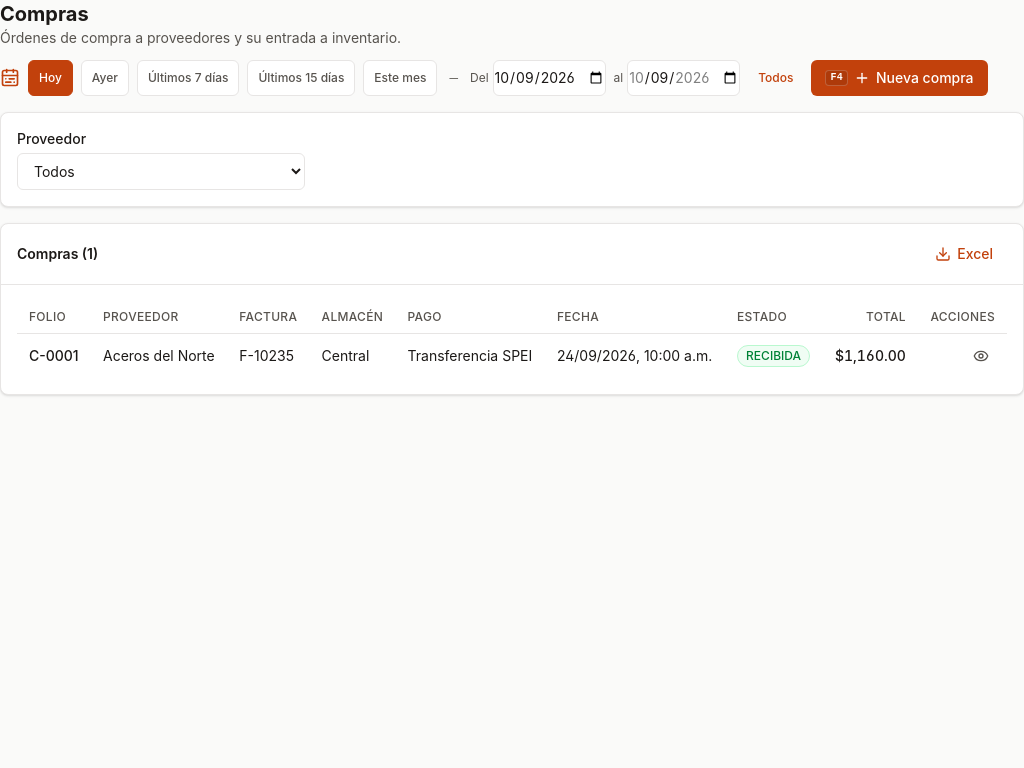
Test: ComprasPage (profundización) › valida proveedor, almacén y partida antes de registrar
Click the button "F4 Nueva compra".
click(900, 78)  # box [812,60,988,96]
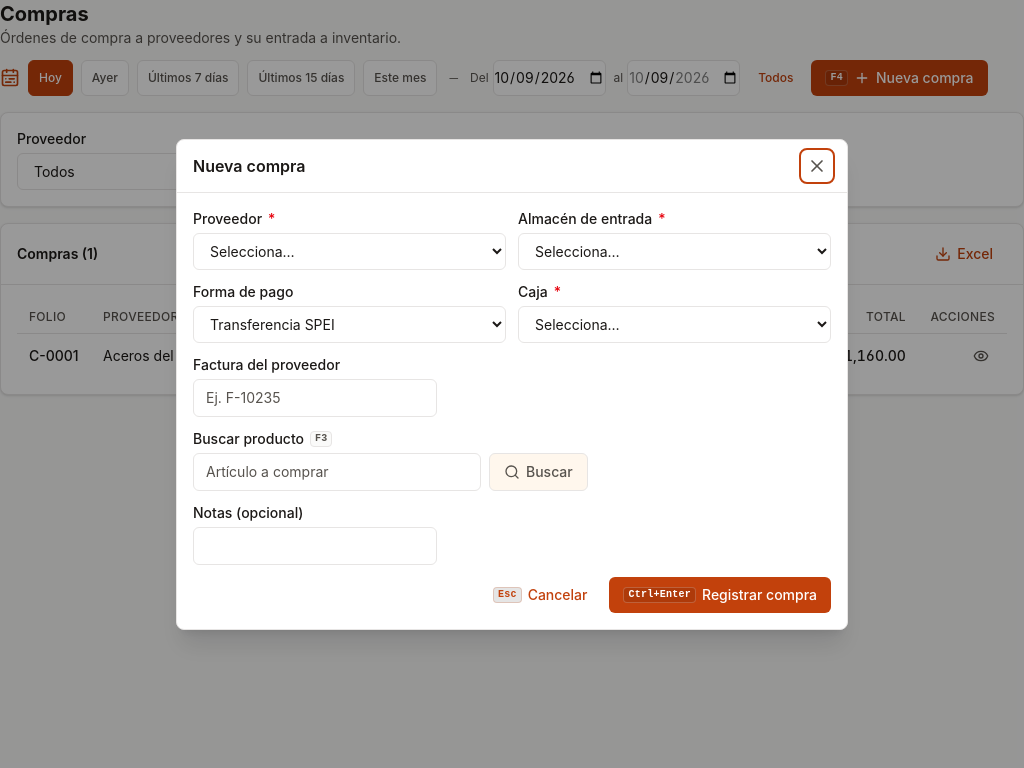
Click the button "Ctrl+Enter Registrar compra".
click(720, 594)  # box [610,576,831,612]
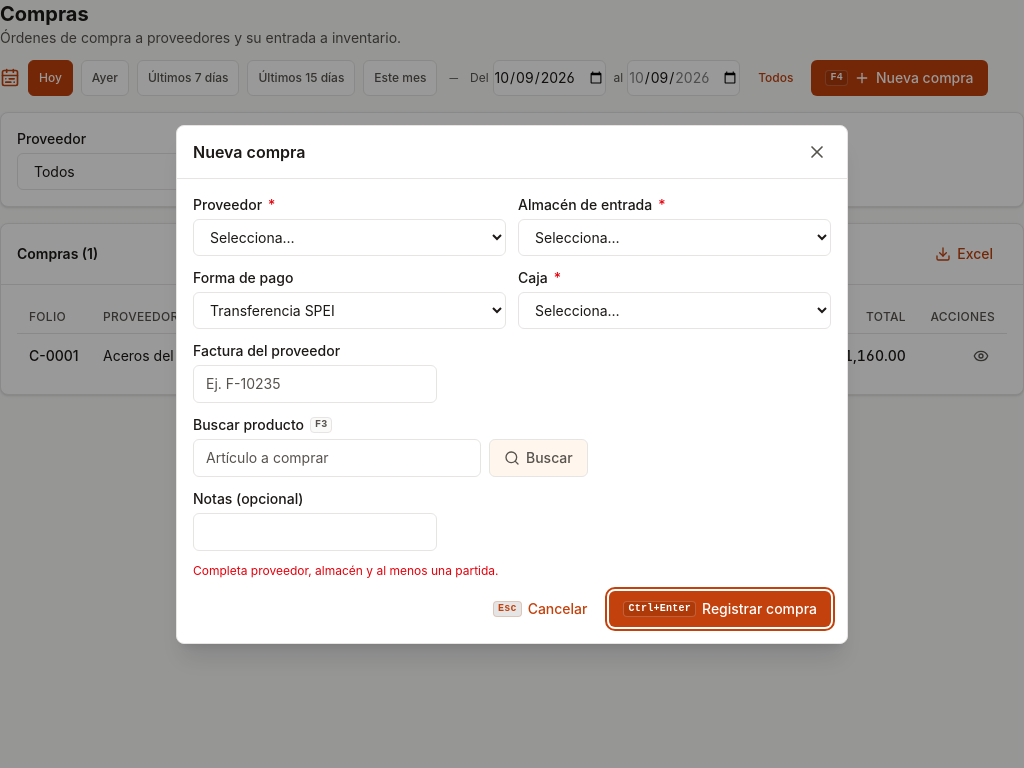
Check: the text "Completa proveedor, almacén y al menos una partida." is shown, box [193,562,498,578]
